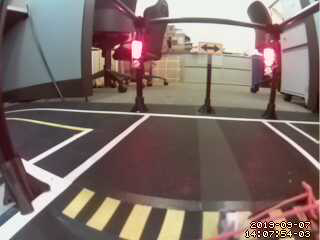Left_Right_sign: (195, 37, 226, 56)
Traffic_light_red: (130, 38, 143, 62), (264, 46, 273, 72)
